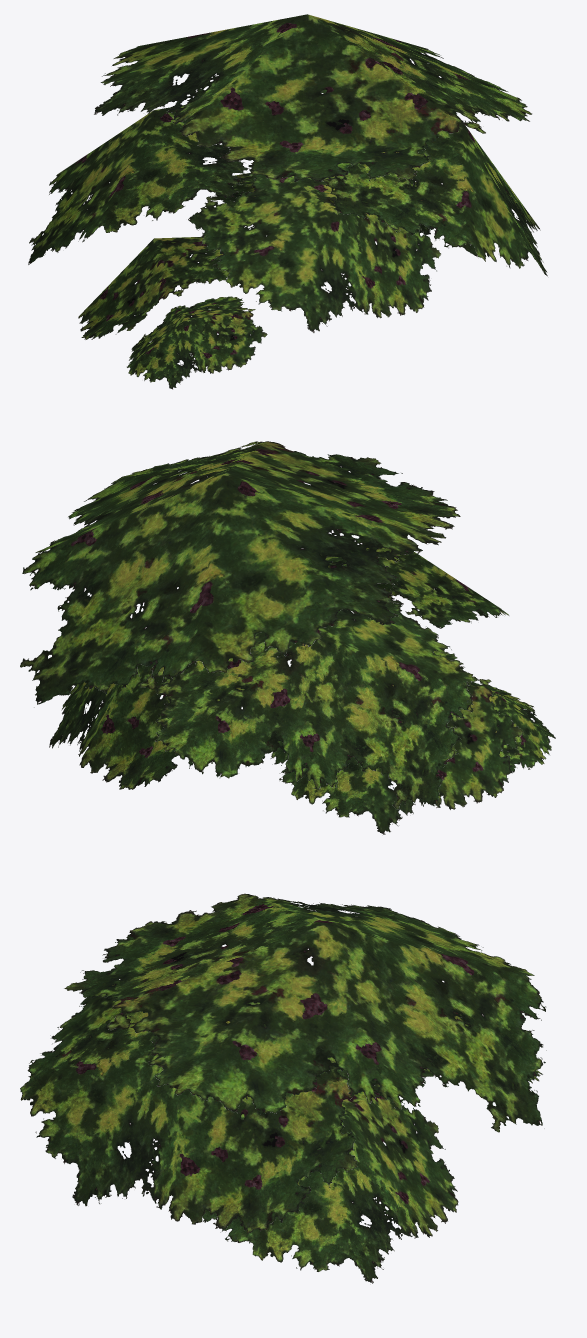
File: tree_leaf_30m.DAE
3 renders of one model, top to bottom at view 1: azimuth 30°, elevation 25°; view 2: azimuth 150°, elevation 25°; view 3: azimuth 270°, elevation 25°, orthographic. The views are drawn at different scales.
Visible parts, largest first — view 1: Plane02; view 2: Plane02; view 3: Plane02.
Part boxes in pixels (x1,y1,x2,y2): Plane02: [28, 14, 547, 389]; Plane02: [20, 441, 555, 834]; Plane02: [20, 893, 546, 1283].
Bounding box in the file's own units: 46.53 × 29.04 × 47.44.
